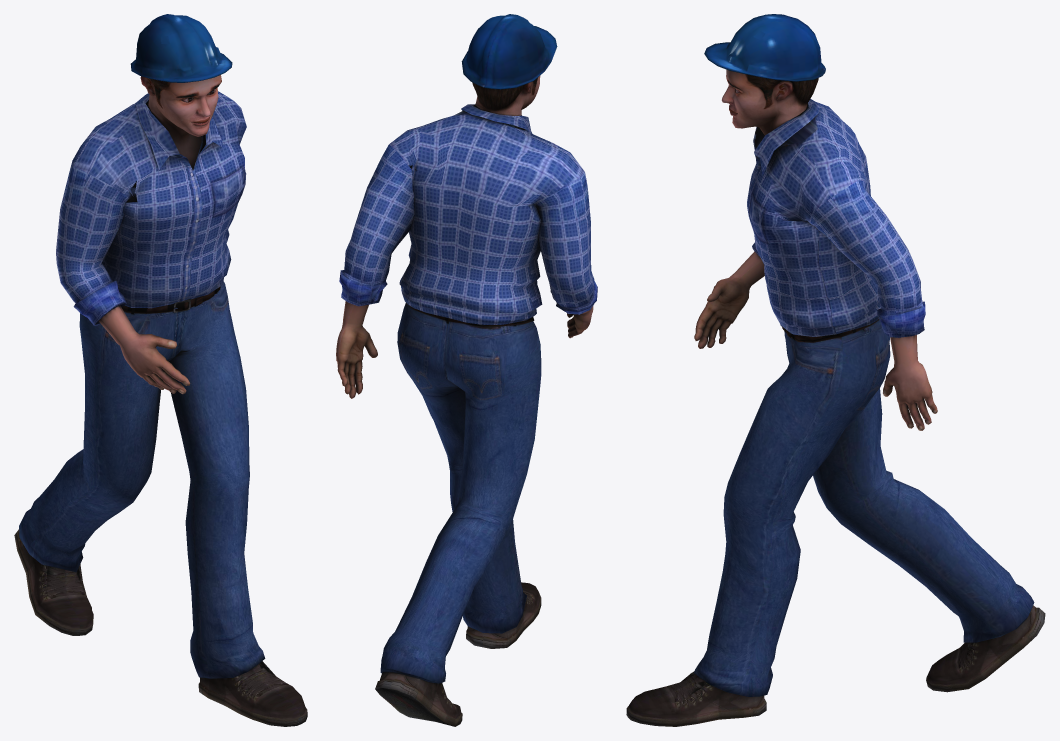
The model's file is SWRK01_02_03.FBX.
3 renders of one model, left to right at view 1: azimuth 30°, elevation 25°; view 2: azimuth 150°, elevation 25°; view 3: azimuth 270°, elevation 25°, orthographic. The views are drawn at different scales.
Parts seen in each view (by area): view 1: SWRK01_02_03; view 2: SWRK01_02_03; view 3: SWRK01_02_03.
Boxes of the visible parts, x1,y1,x2,y2 form: SWRK01_02_03: (14,14,307,726); SWRK01_02_03: (336,14,597,726); SWRK01_02_03: (626,14,1045,726).
Bounding box in the file's own units: 22.4 × 68.63 × 38.49.
Materials: 1 (1 with a texture image).
